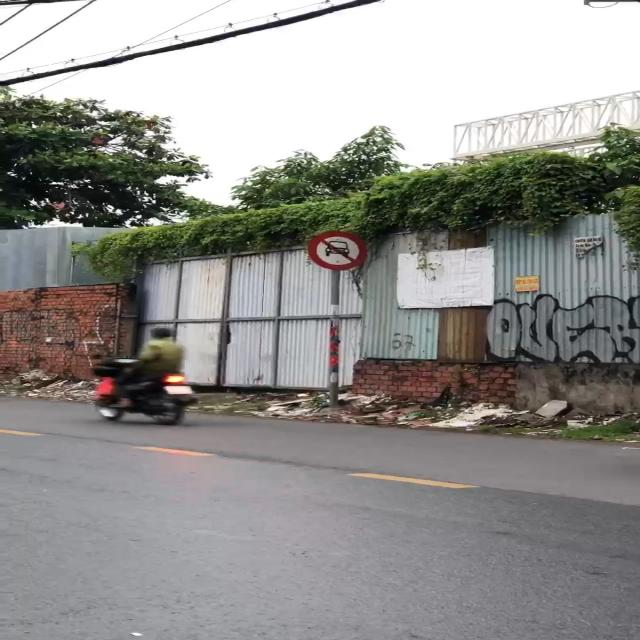Bien bao cam xe oto: (302, 229, 372, 271)
